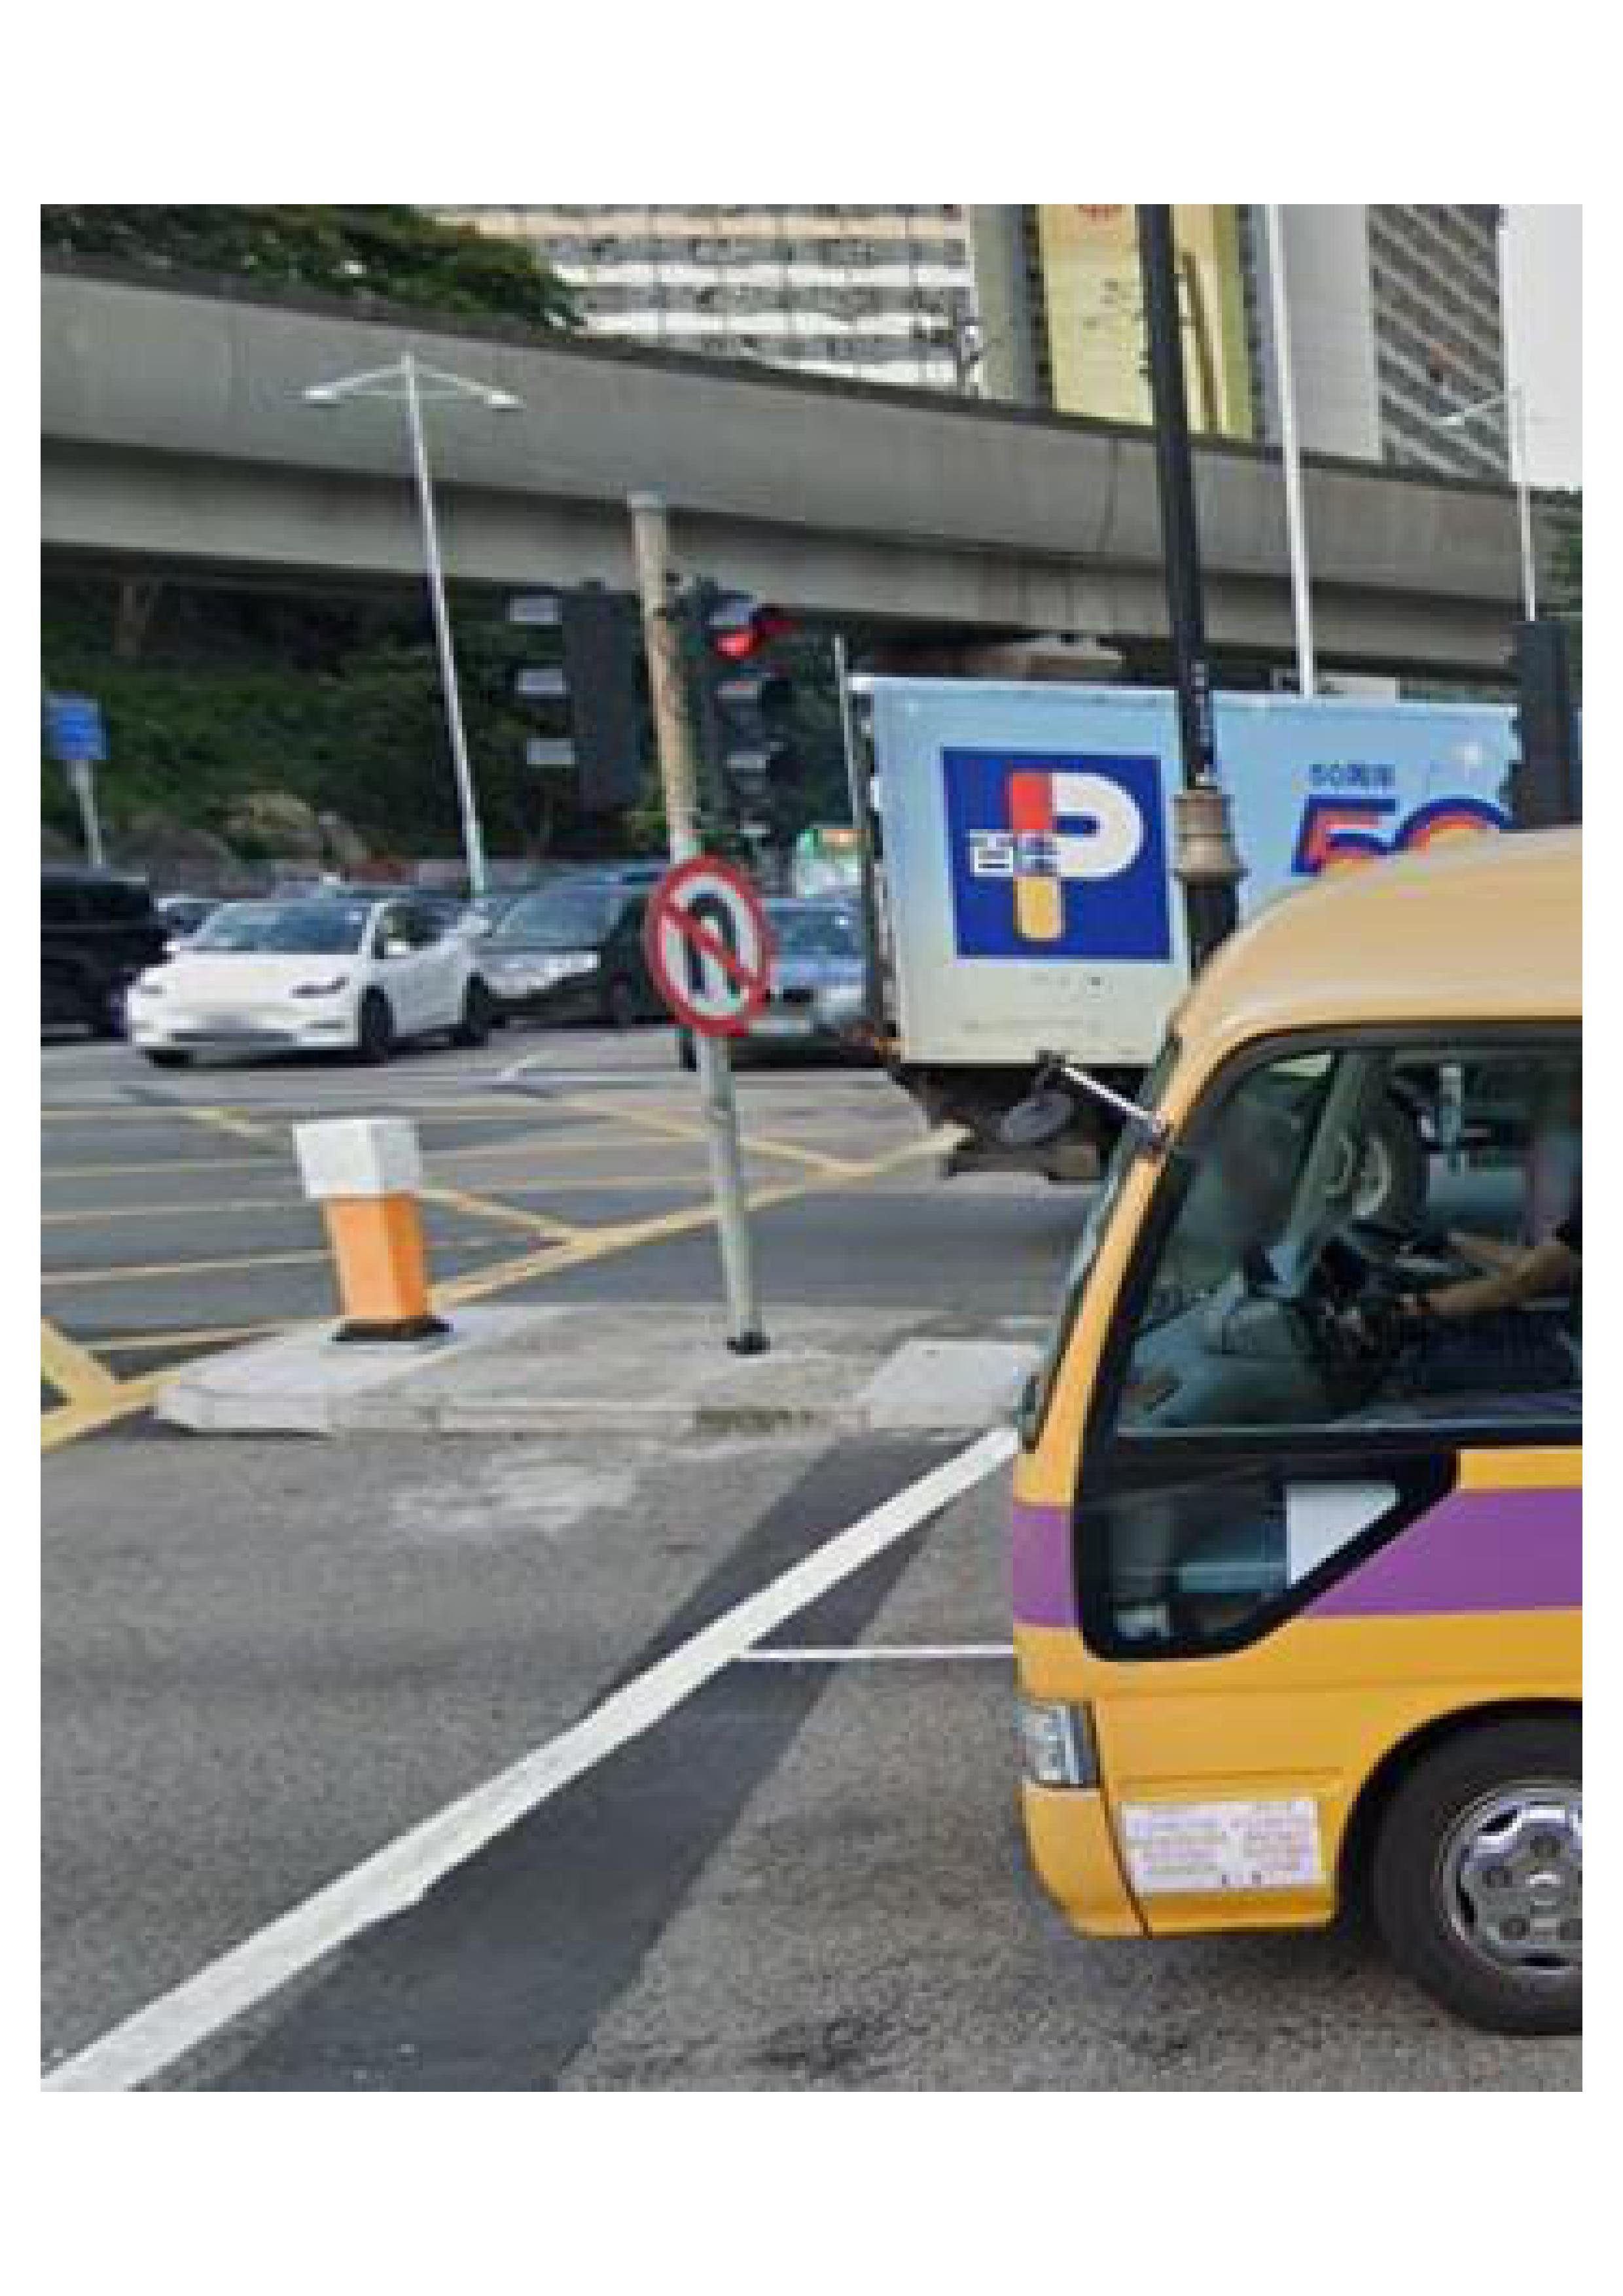No Uturn: (648, 855, 776, 1030)
